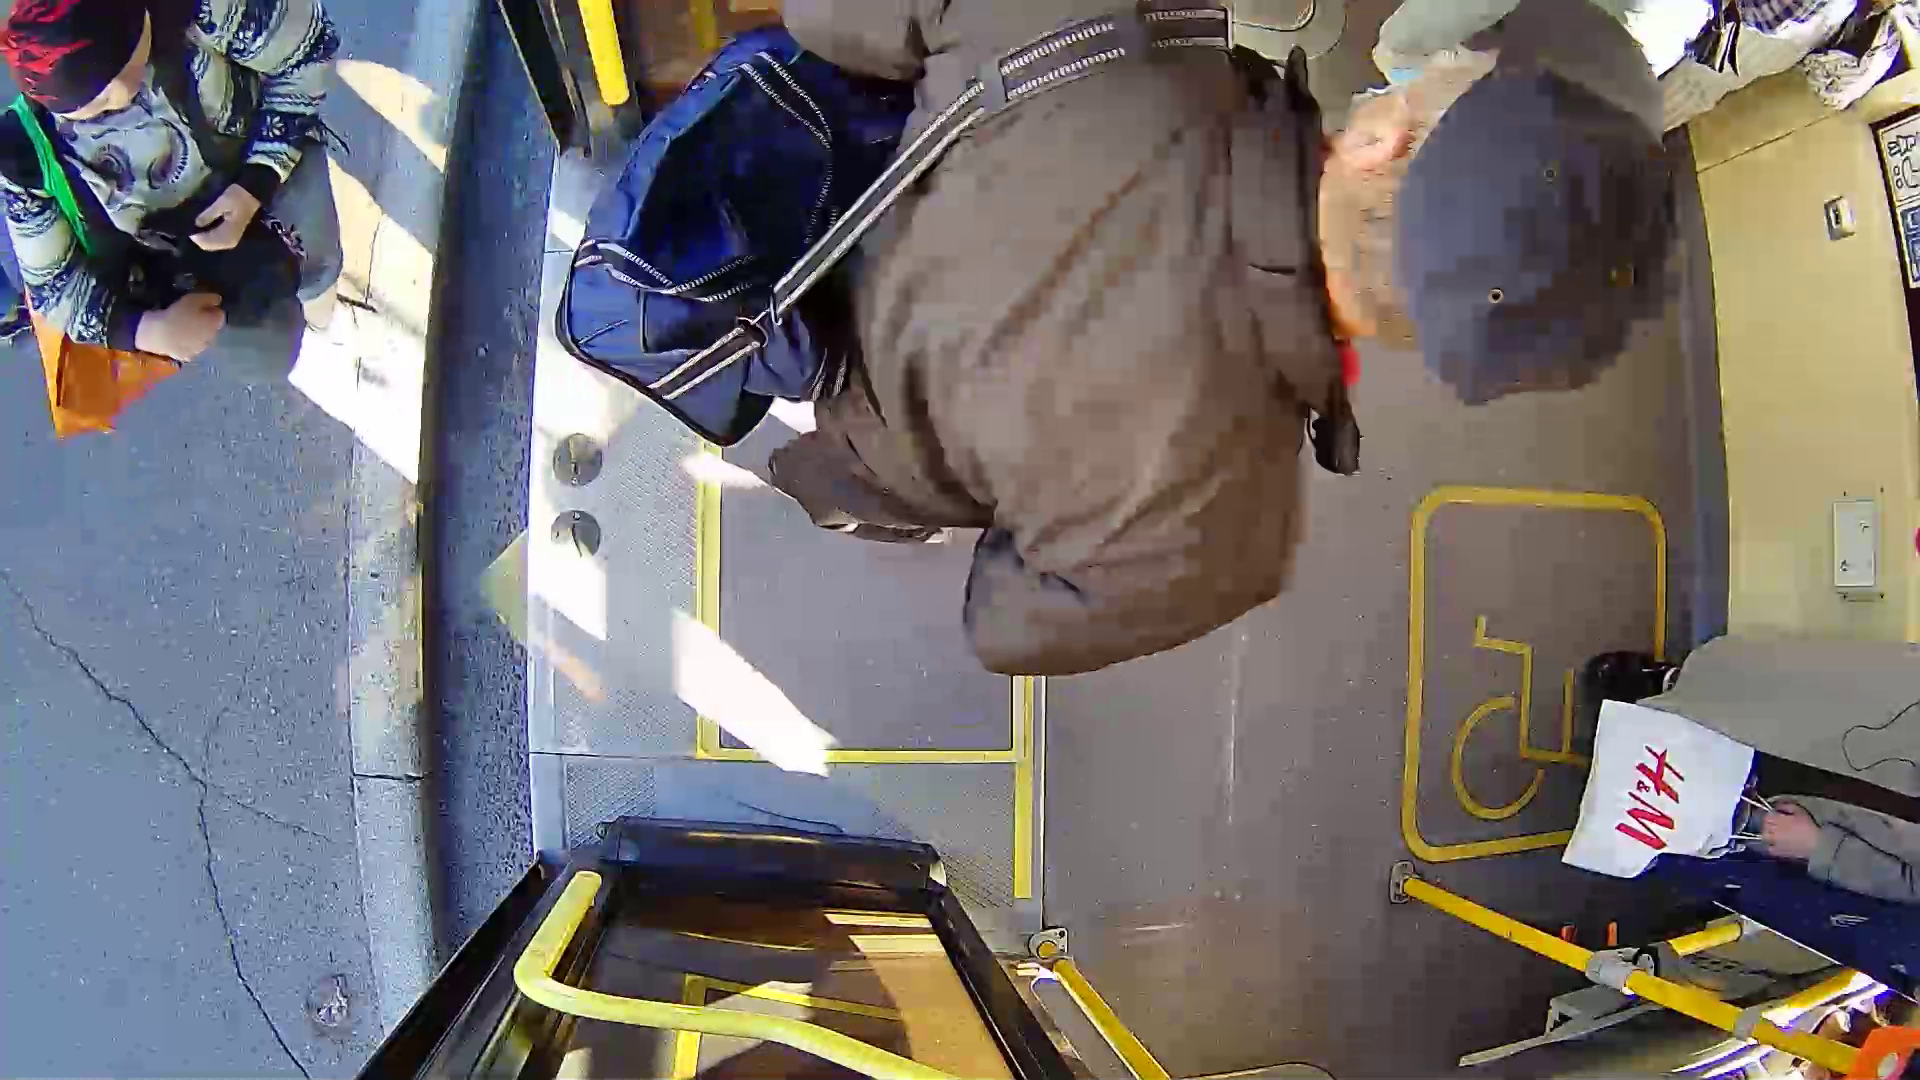person: (593, 17, 1666, 644), (1, 9, 460, 417)
